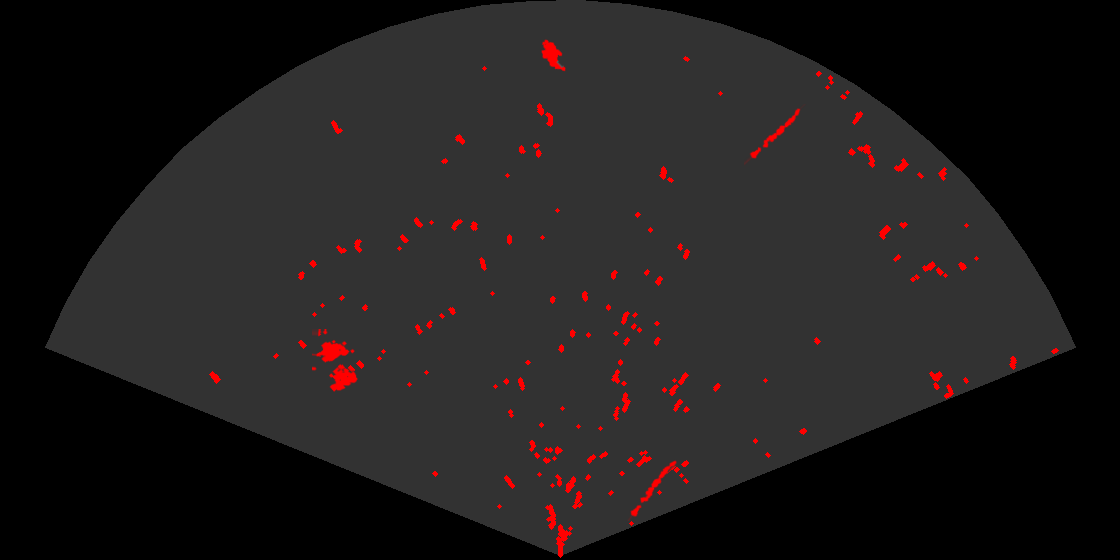AUV: (540, 38, 567, 73)
cage: (312, 329, 359, 394)
chain: (744, 104, 807, 167), (626, 459, 678, 521)
